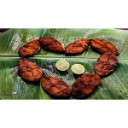seerfish: (41, 73, 70, 99), (72, 73, 101, 97), (17, 57, 43, 81), (94, 52, 119, 74), (91, 37, 120, 55), (65, 37, 90, 54), (38, 35, 64, 51), (17, 38, 40, 55)
